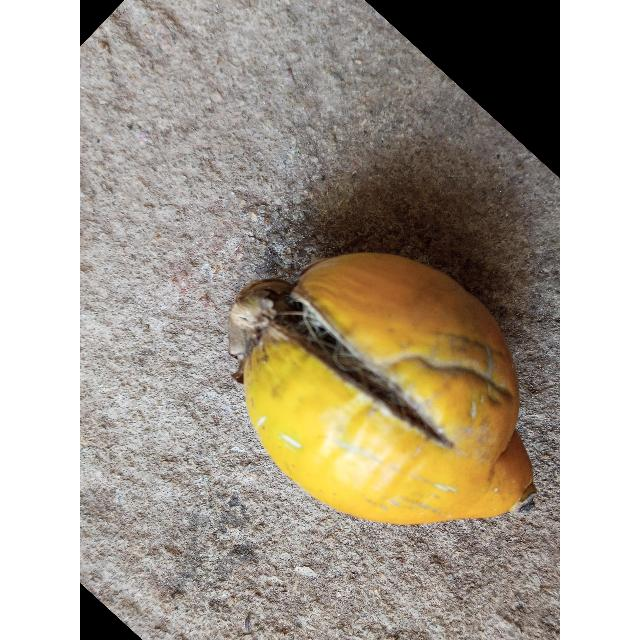damaged: (232, 253, 536, 528)
